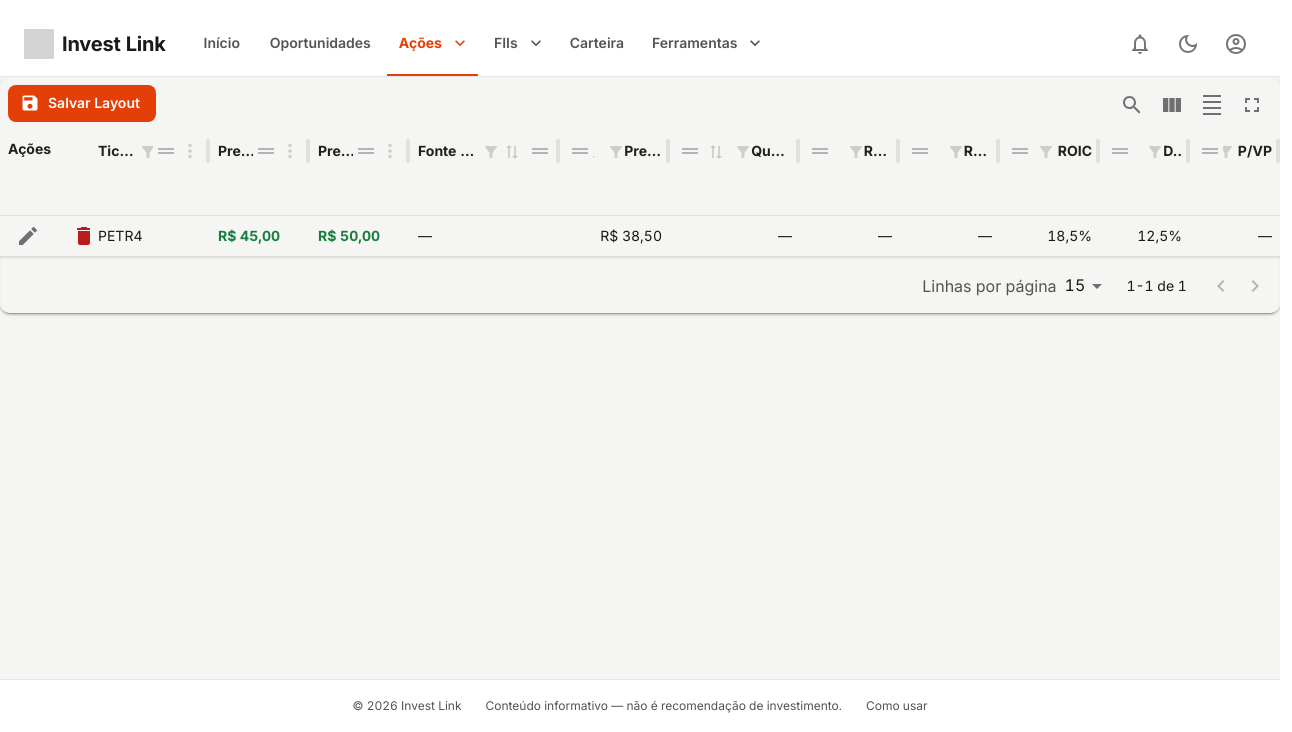
Favoritas › remove favorita e exibe confirmação de sucesso
Check: the text "PETR4" is shown, box [90,216,210,257]
Click the button named "Delete": click(84, 236) [64,216,104,256]
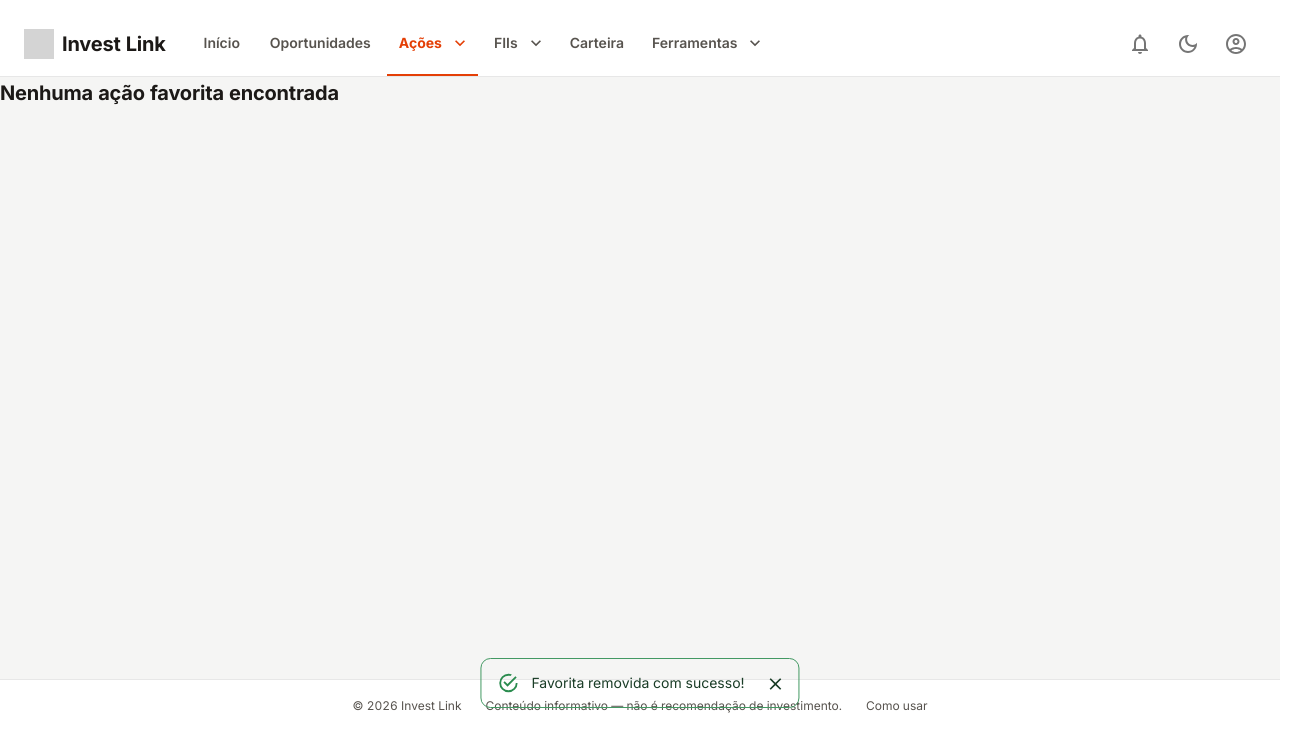
Check: the text "Favorita removida com sucesso!" is shown, box [531,674,744,691]
